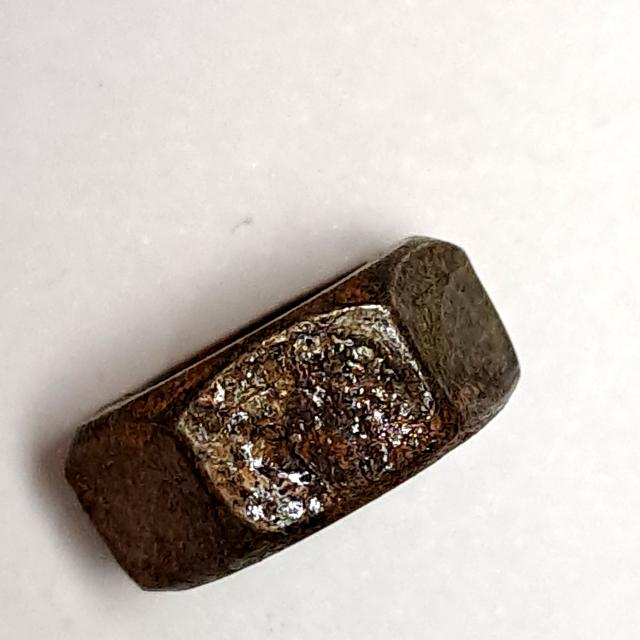Side_Rust: (53, 224, 534, 610)
